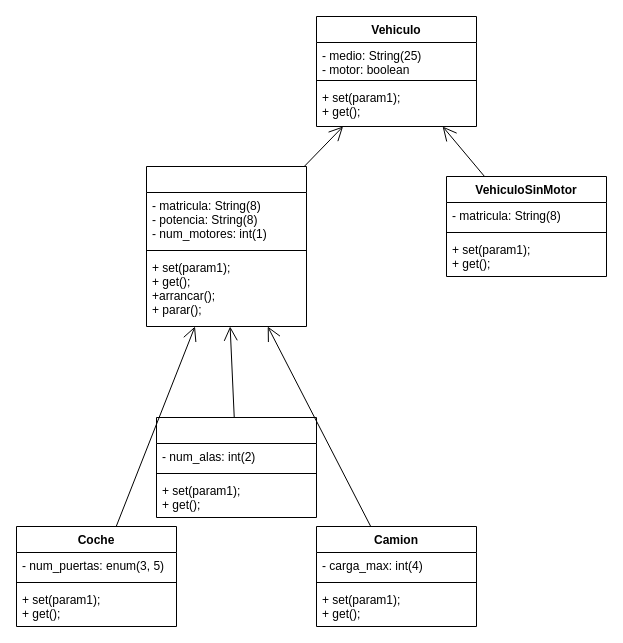
Some shapes in this 623 by 643 pixel diagram are drawn without their labels. Each missing label, with the box of its shape:
Avion: (156, 416, 316, 518)
VehiculoConMotor: (146, 166, 306, 326)
